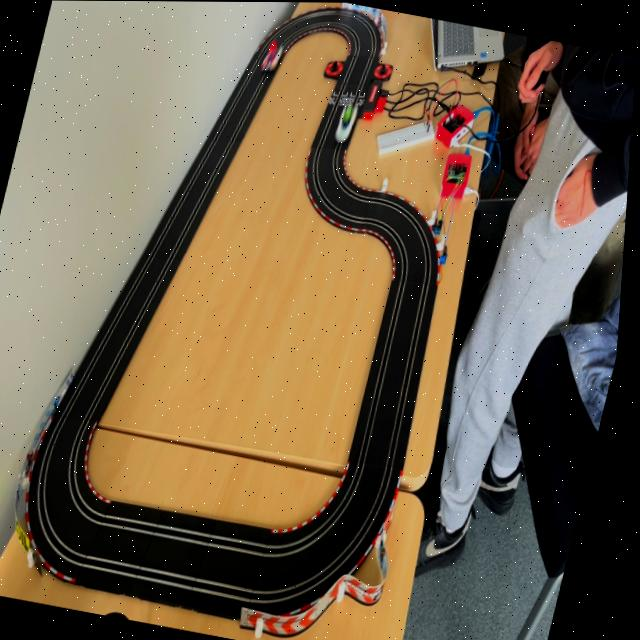mario: (259, 39, 288, 78)
yoshi: (335, 102, 361, 146)
